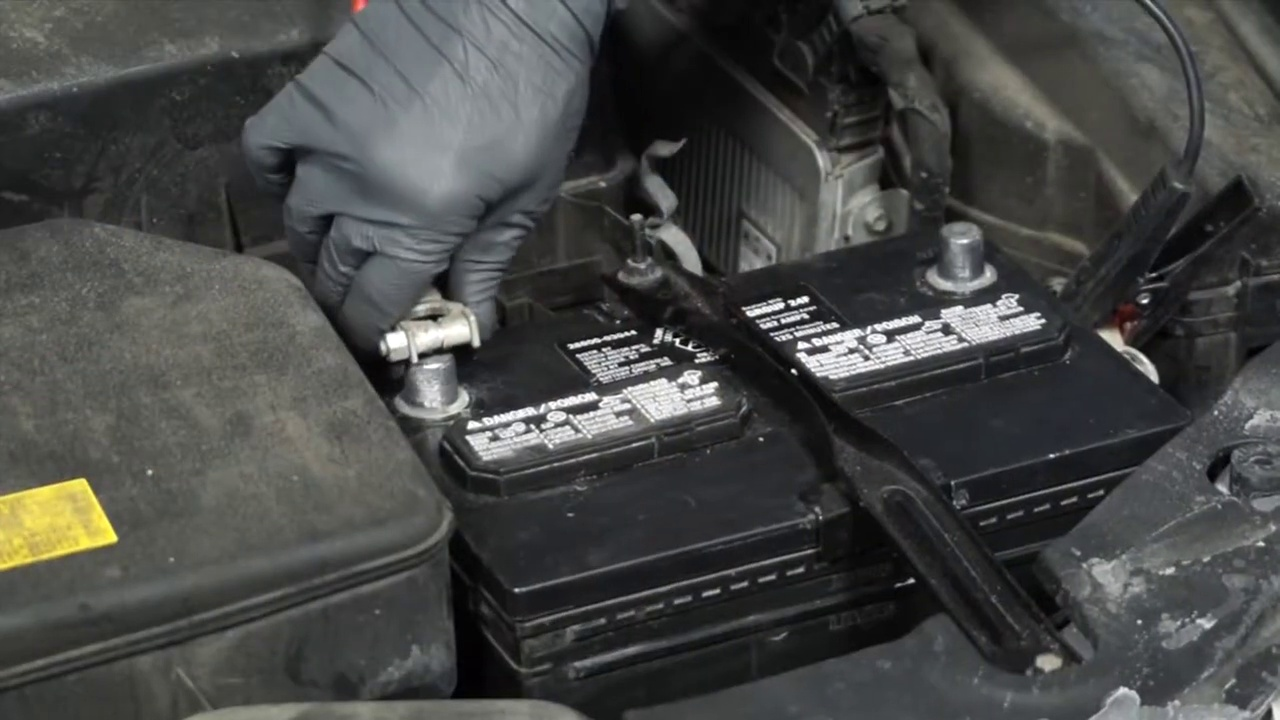battery: (358, 192, 1184, 538)
